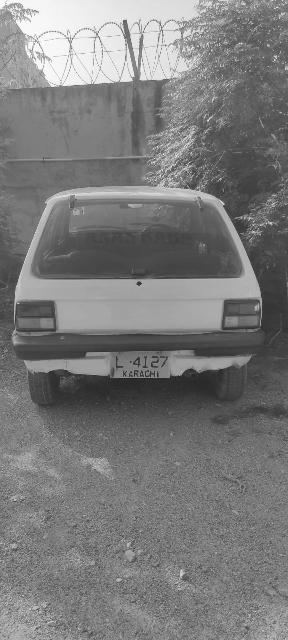Number: (115, 355, 169, 369)
